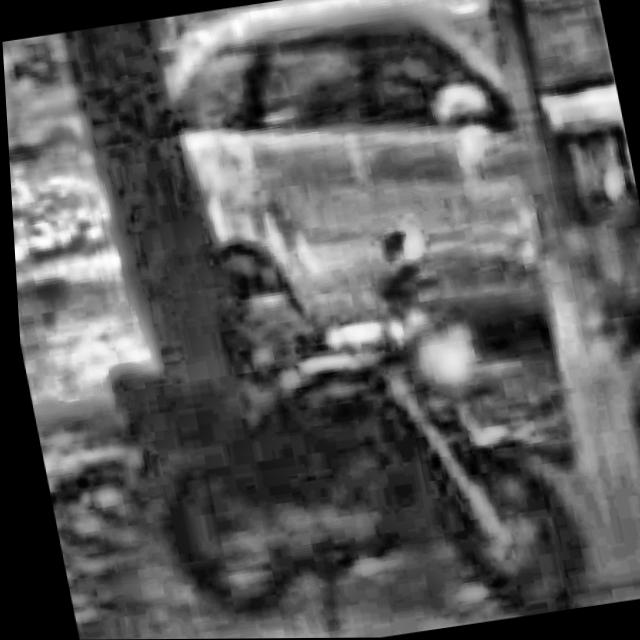motorcycle: (69, 190, 596, 640)
